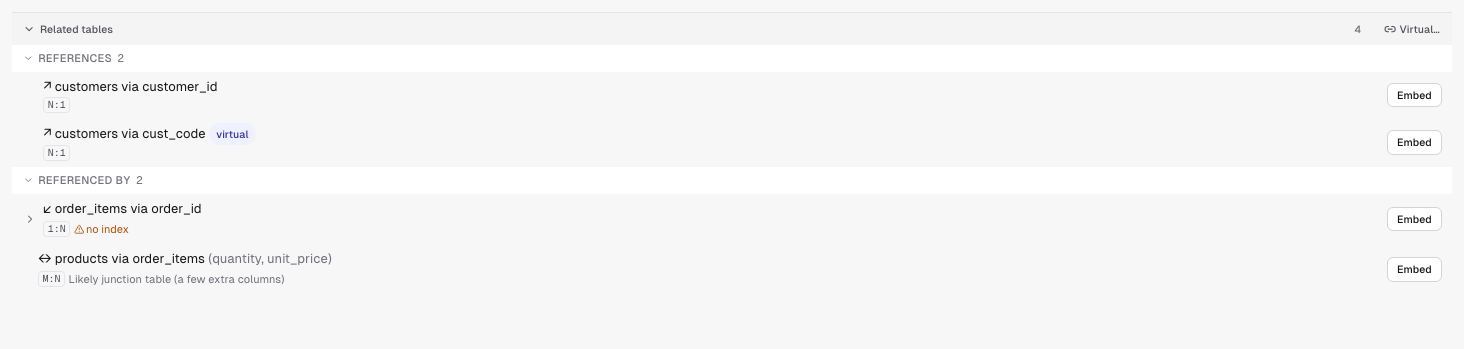
Test: RelatedTree › AC6: hops, junctions and virtual badge
Check: the list item with test id "related-order_items" shows "↙ order_items via order_id", box [43,201,202,216]
Check: the icon named "Lookups on order_items.order_id will scan the table" is shown, box [74,224,84,234]
Click the button named "Show tables related to order_items" at (30, 219), box [24,213,36,225]
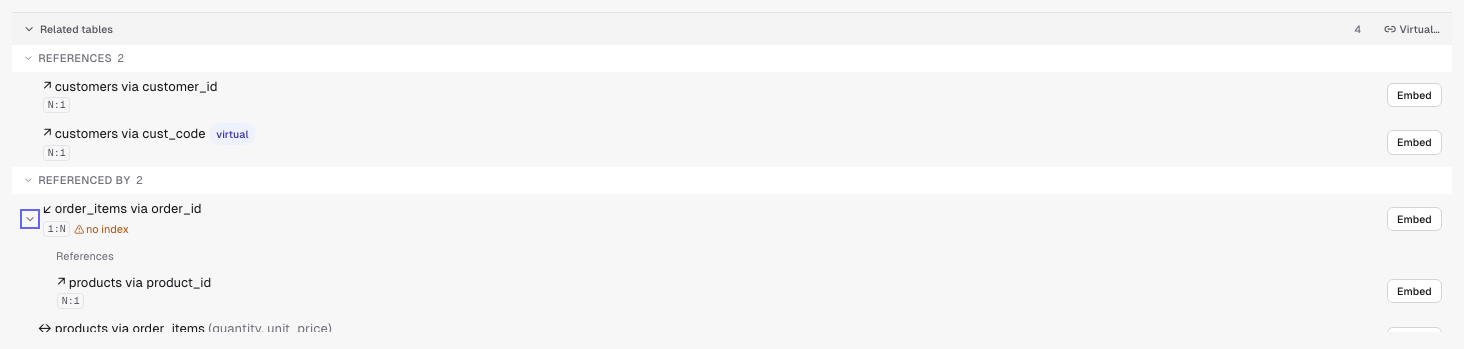
Check: the list item with test id "related-order_items/products" shows "↗ products via product_id", box [57,275,211,290]
